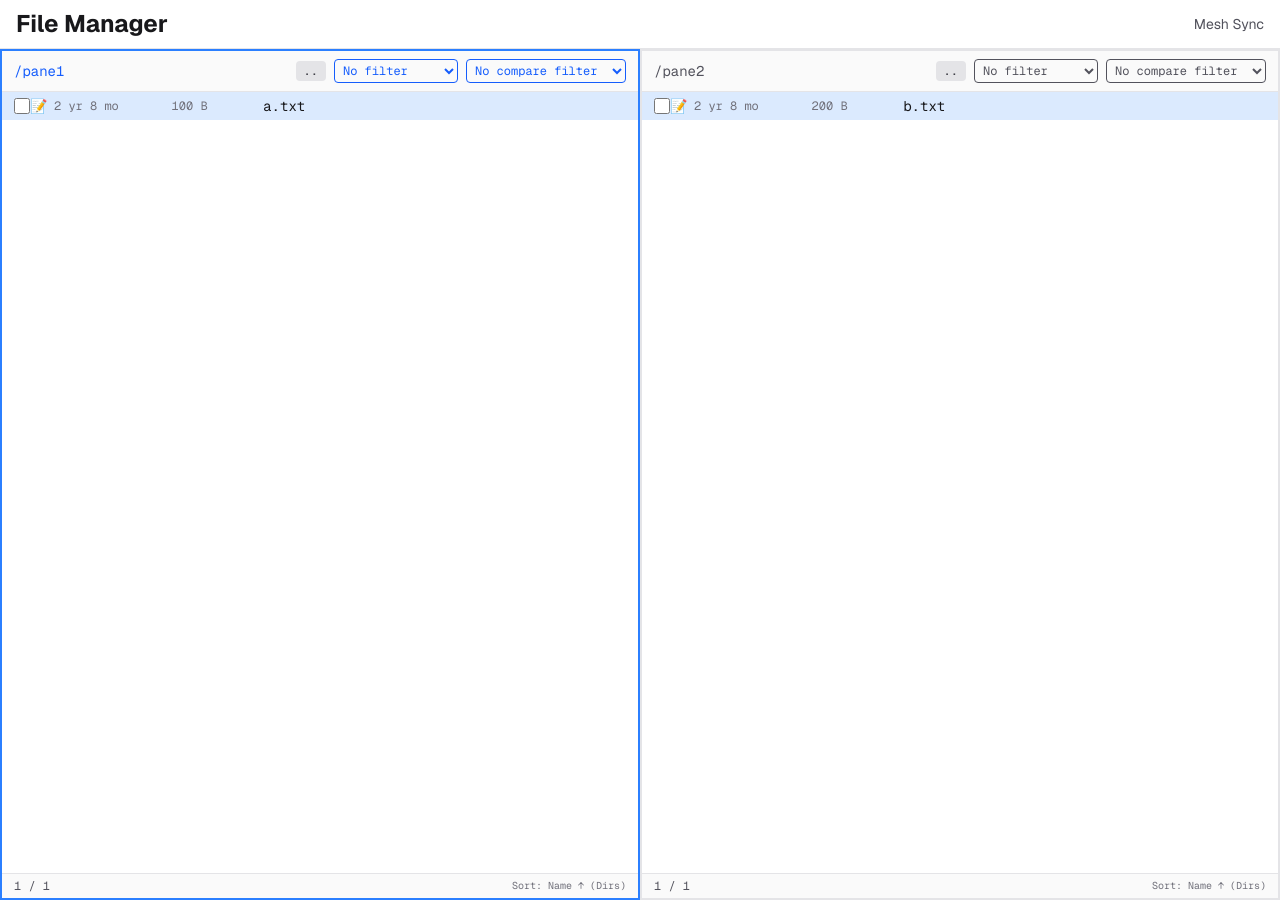
Test: WorkspaceView pane reorder [IMPL-PANE_MANAGEMENT] [REQ-MULTI_PANE_LAYOUT] › reorders panes via pane order dialog
Check: the element with test id "pane-0" shows "/pane1", box [14,62,64,80]
Press o
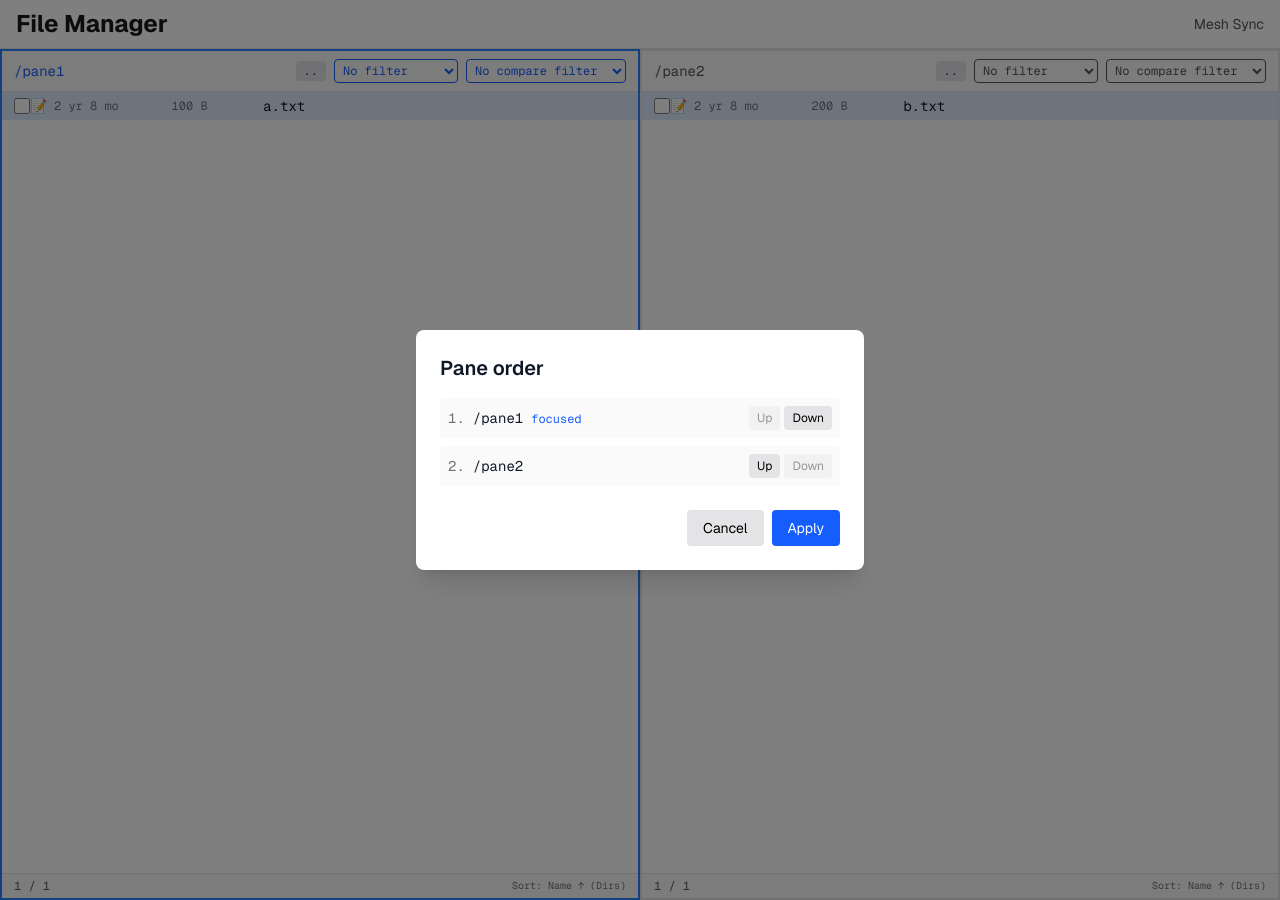
Check: the dialog with test id "pane-order-dialog" is shown, box [416,330,864,570]
Click the button with test id "pane-order-down-0": (808,418) [784,406,832,430]
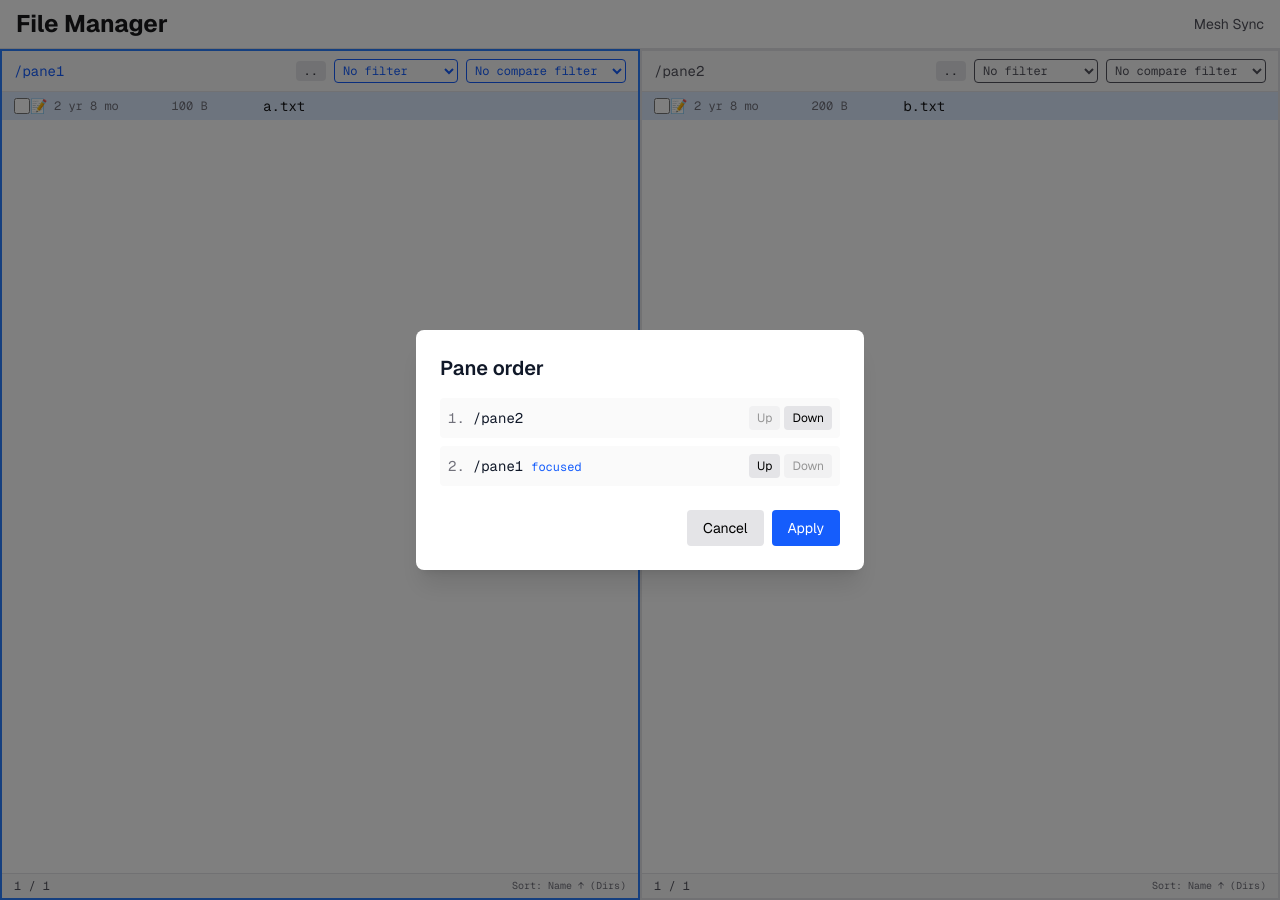
Click the button with test id "pane-order-apply": (806,528) [772,510,840,546]
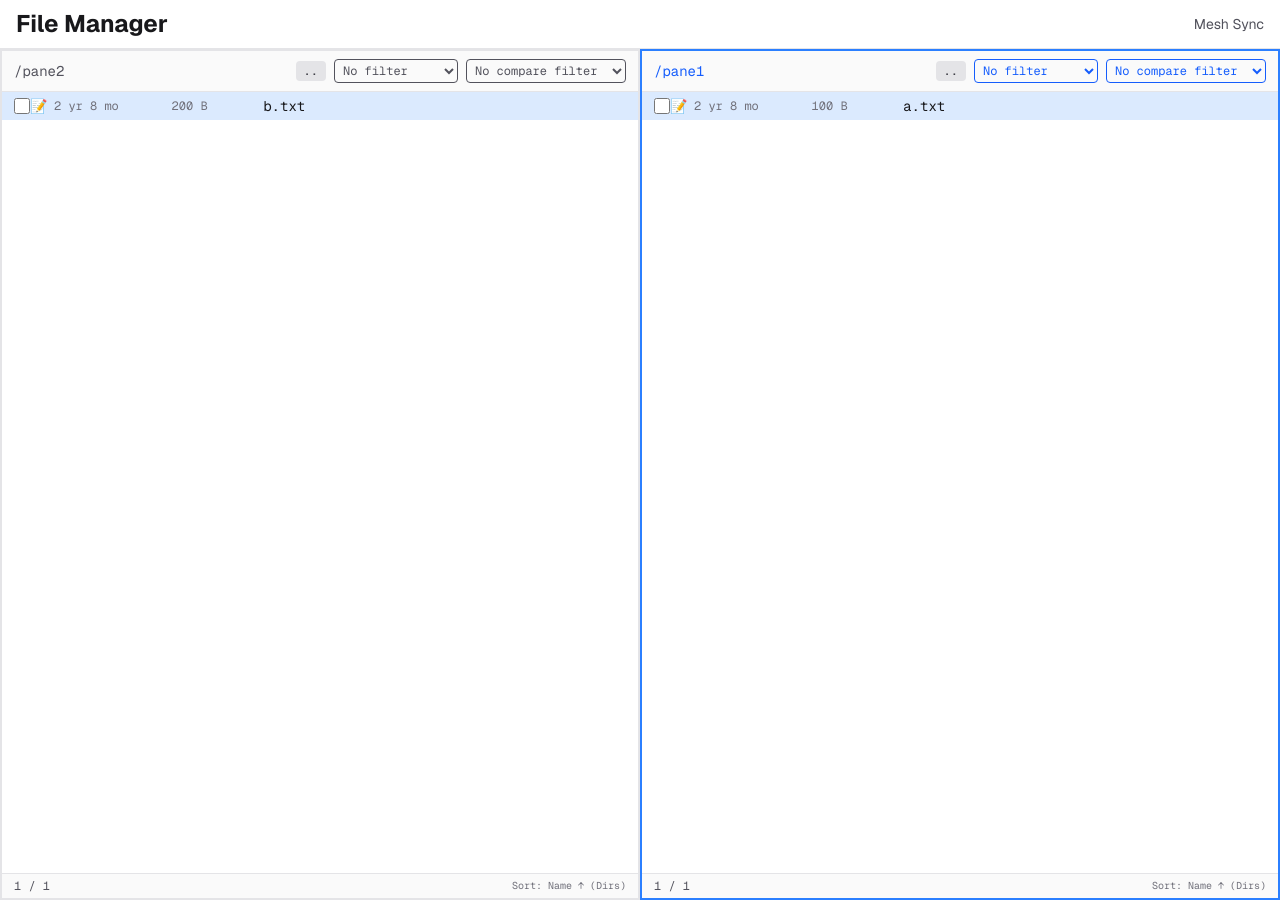
Check: the element with test id "pane-0" shows "/pane2", box [14,62,64,80]
Check: the element with test id "pane-1" shows "/pane1", box [654,62,704,80]
